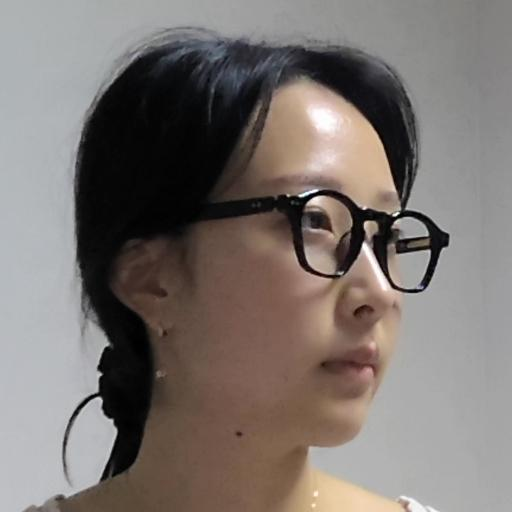no_glasses: (80, 28, 455, 454)
